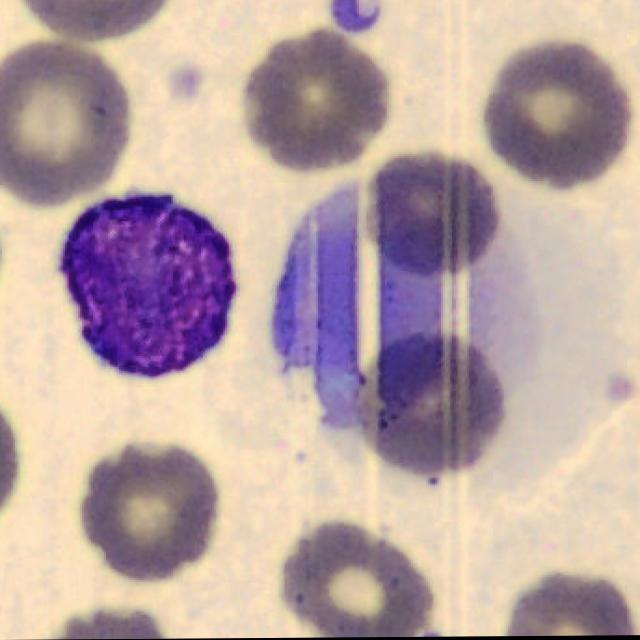Linfocito: (58, 193, 236, 376)
